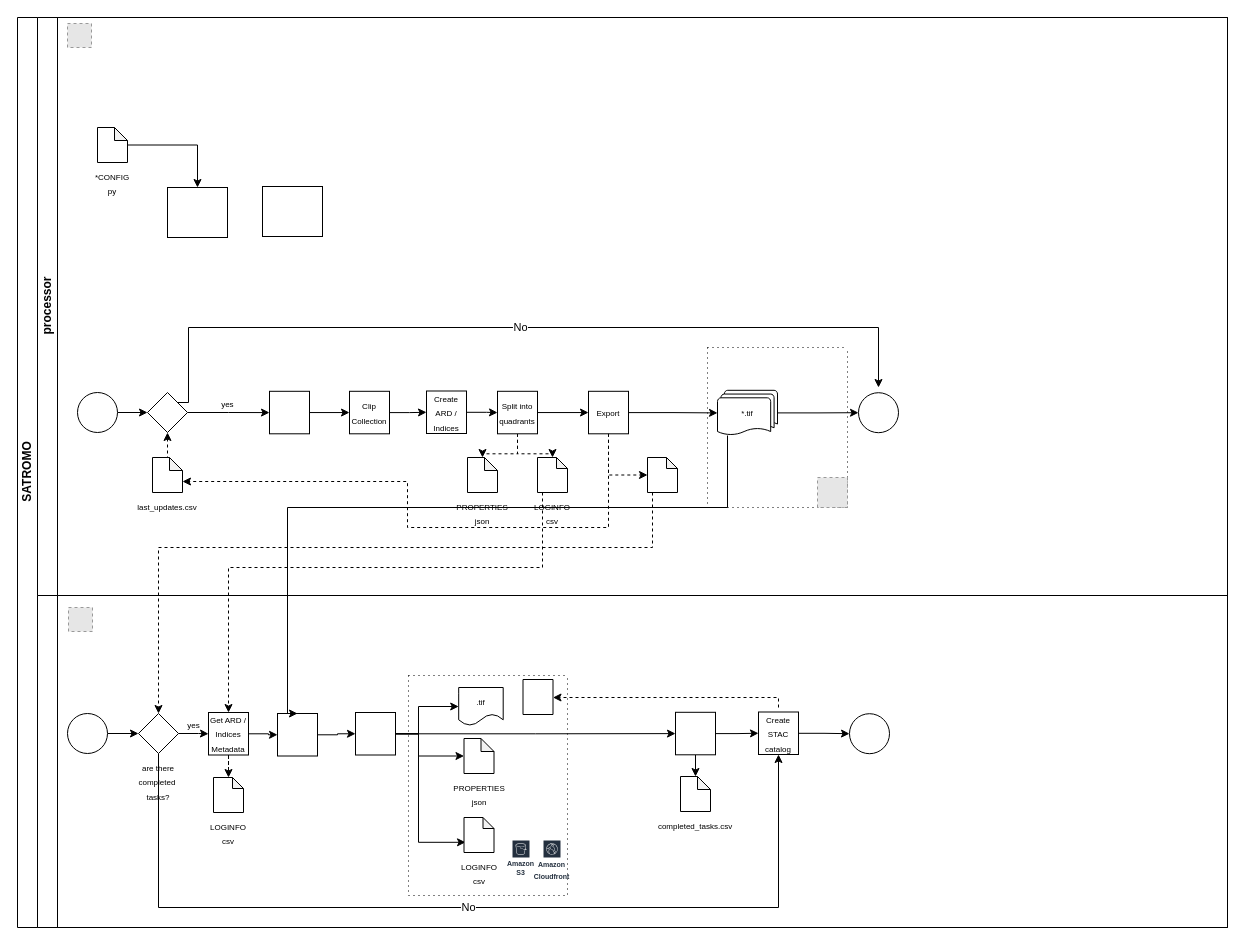
Some shapes in this 1245 by 945 pixel diagram are drawn without their labels. Grey dashed boxes stand in for pictures. The shapes that lost their labels are listed below. From the top down, each one's box as (x1, y1, x2, y2) in pixels, then its label:
(166, 186, 228, 238): get_step0_dict - collection names - product names - temporal coverages
(262, 186, 322, 236): step0_main - collection names - product names - temporal coverages
(146, 392, 188, 432): does new imagery exist?
(268, 390, 310, 434): Filter Collection
(646, 456, 678, 492): running_tasks.csv
(522, 678, 553, 714): catalog.json
(276, 712, 318, 756): Merge files
(354, 712, 396, 755): Move files
(674, 711, 716, 755): update status
(36, 594, 1228, 928): publisher
